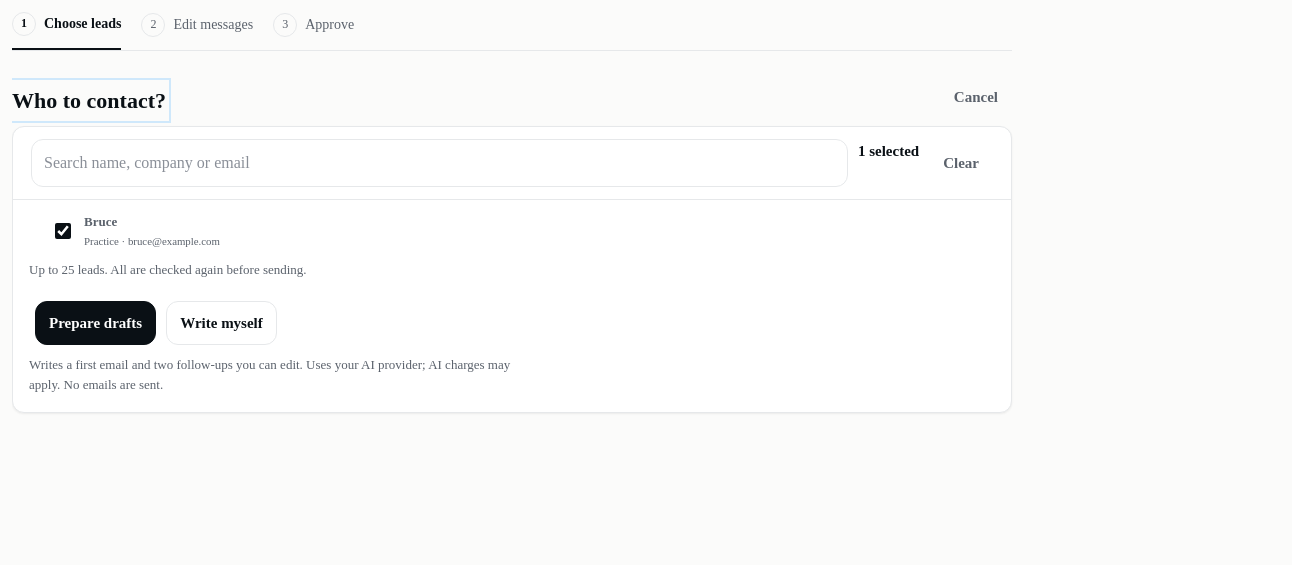
it: AI preparation is one direct backend request and opens the saved draft without Chat
This screenshot has width=1292, height=565.
Click the button "Prepare drafts". click: {"x": 96, "y": 323}
box: x1=35 y1=301 x2=156 y2=345
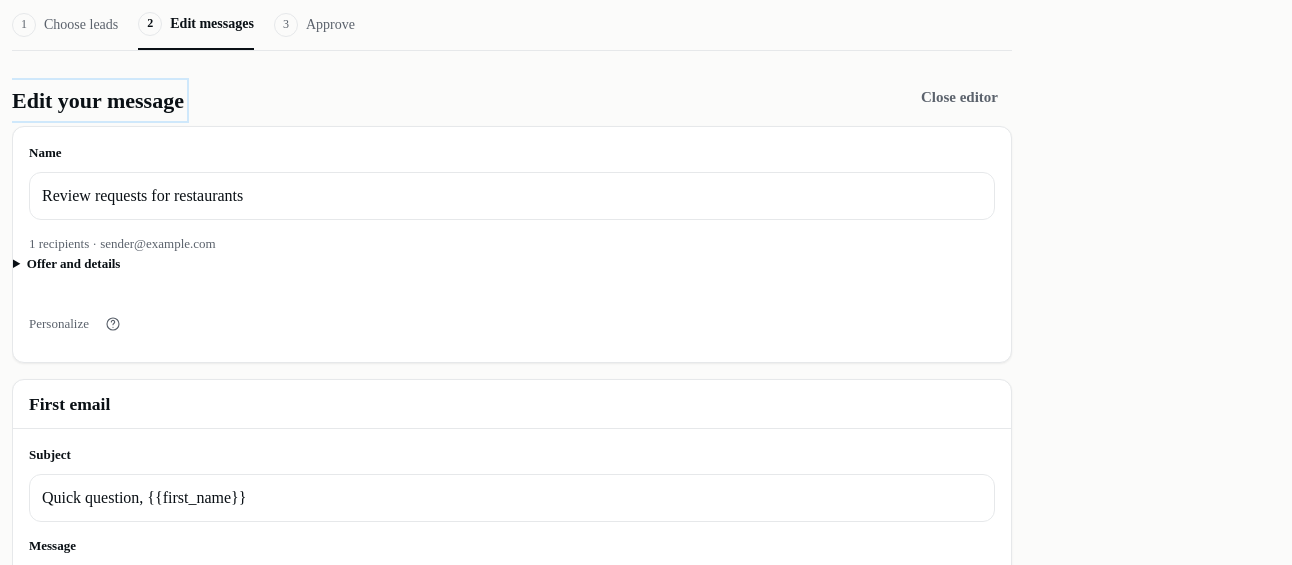
Result: the heading "Edit your message" is shown at x1=12 y1=83 x2=184 y2=118
Result: the field labelled "Subject" holds "Quick question, {{first_name}}" at x1=29 y1=474 x2=995 y2=522
